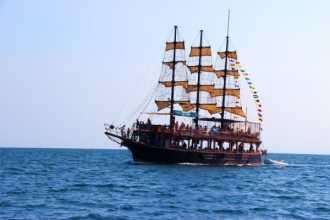fanchuan: (101, 7, 275, 164)
